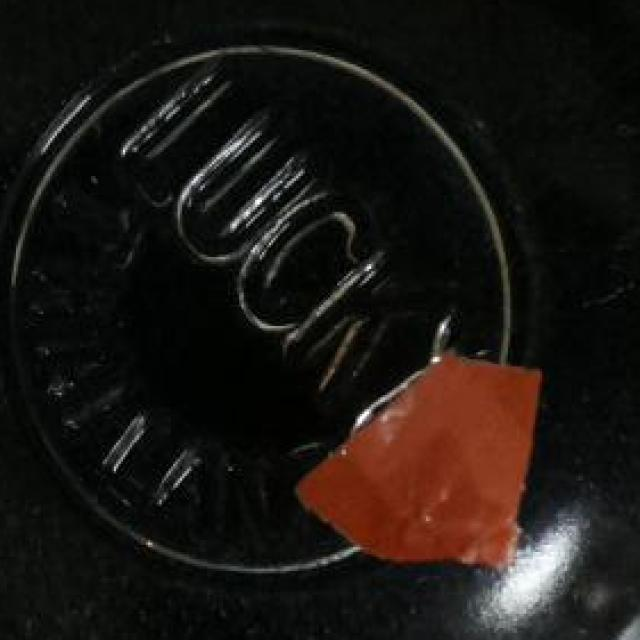Microplastic: (280, 348, 544, 586)
